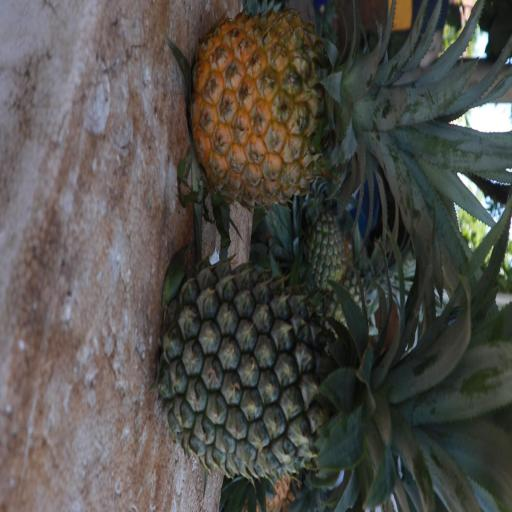Pineapple - v8 v1: (198, 14, 483, 200)
